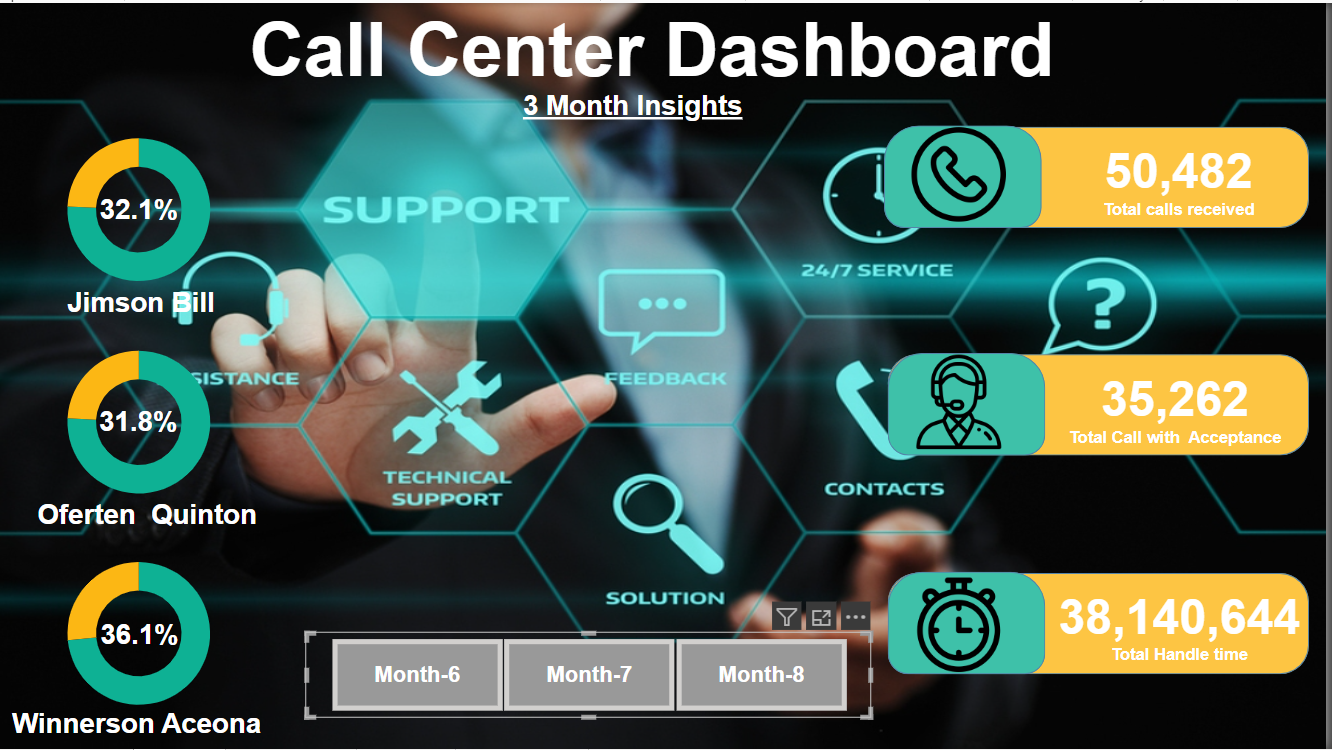

Layout of this report page (visuals, bound fields, positions):
{"tool":"powerbi","page":{"name":"Home","canvas":[1280,720],"ordinal":0},"visuals":[{"type":"textbox","box":[0,0,1279.6,108.5],"z":0},{"type":"donutChart","fields":{"Y":["All Measures.Total calls","All Measures.jimson Bill calls"]},"box":[20.5,108.5,229.1,182.1],"z":1000},{"type":"donutChart","fields":{"Y":["All Measures.Total calls","All Measures.oferten Quinton calls"]},"box":[20.5,313,229.1,182.1],"z":2000},{"type":"donutChart","fields":{"Y":["All Measures.Total calls","All Measures.Winnerson Aceona calls"]},"box":[20.5,517.4,229.1,182.1],"z":3000},{"type":"card","fields":{"Values":["All Measures.% Winnerson Aceona"]},"box":[86.8,583.7,97.7,51.9],"z":4000},{"type":"card","fields":{"Values":["All Measures.% Jimson Bill"]},"box":[78.4,168.8,113.4,61.5],"z":5000},{"type":"card","fields":{"Values":["All Measures.% oferten Quinton"]},"box":[80.8,371.5,107.3,65.1],"z":6000},{"type":"textbox","box":[53.1,268.9,167.6,44.6],"z":7000},{"type":"textbox","box":[20.5,474,244.8,43.4],"z":8000},{"type":"textbox","box":[0,675.4,265.3,44.6],"z":9000},{"type":"shape","box":[857.5,119.4,406.4,97.7],"z":10000},{"type":"shape","box":[853.9,118.2,152,98.9],"z":11000},{"type":"shape","box":[857.5,549.9,406.4,97.7],"z":12000},{"type":"shape","box":[857.5,338.9,406.4,97.7],"z":13000},{"type":"shape","box":[857.5,548.7,152,98.9],"z":14000},{"type":"shape","box":[857.5,337.7,152,98.9],"z":15000},{"type":"card","fields":{"Values":["All Measures.Total calls"]},"box":[1013.1,124.2,250.9,88],"z":16000},{"type":"card","fields":{"Values":["All Measures.Call with an accept"]},"box":[1009.4,337.7,250.9,101.3],"z":17000},{"type":"card","fields":{"Values":["All Measures.Total Handle time"]},"box":[1005.8,547.5,266.5,101.3],"z":18000},{"type":"image","box":[875.6,113.4,101.3,103.7],"z":19000},{"type":"image","box":[875.6,330.5,101.3,108.5],"z":20000},{"type":"image","box":[875.6,546.3,101.3,107.3],"z":21000},{"type":"slicer","fields":{"Values":["FactTable.Month Name"]},"box":[295.5,606.6,546.3,83.2],"z":22000},{"type":"textbox","box":[500.5,79.6,250.9,57.9],"z":23000}]}

Visuals, with their boxes in screenshot pixels (x1, y1, x2, y2), scaled from the page's 1280x720 canvas onto the 1332x750 screenshot:
textbox: [0,0,1331,113]
donutChart - All Measures.Total calls x All Measures.jimson Bill calls: [21,113,260,303]
donutChart - All Measures.Total calls x All Measures.oferten Quinton calls: [21,326,260,516]
donutChart - All Measures.Total calls x All Measures.Winnerson Aceona calls: [21,539,260,729]
card - All Measures.% Winnerson Aceona: [90,608,192,662]
card - All Measures.% Jimson Bill: [82,176,200,240]
card - All Measures.% oferten Quinton: [84,387,196,455]
textbox: [55,280,230,327]
textbox: [21,494,276,539]
textbox: [0,704,276,749]
shape: [892,124,1315,226]
shape: [889,123,1047,226]
shape: [892,573,1315,675]
shape: [892,353,1315,455]
shape: [892,572,1051,675]
shape: [892,352,1051,455]
card - All Measures.Total calls: [1054,129,1315,221]
card - All Measures.Call with an accept: [1050,352,1311,457]
card - All Measures.Total Handle time: [1047,570,1324,676]
image: [911,118,1017,226]
image: [911,344,1017,457]
image: [911,569,1017,681]
slicer - FactTable.Month Name: [308,632,876,719]
textbox: [521,83,782,143]
